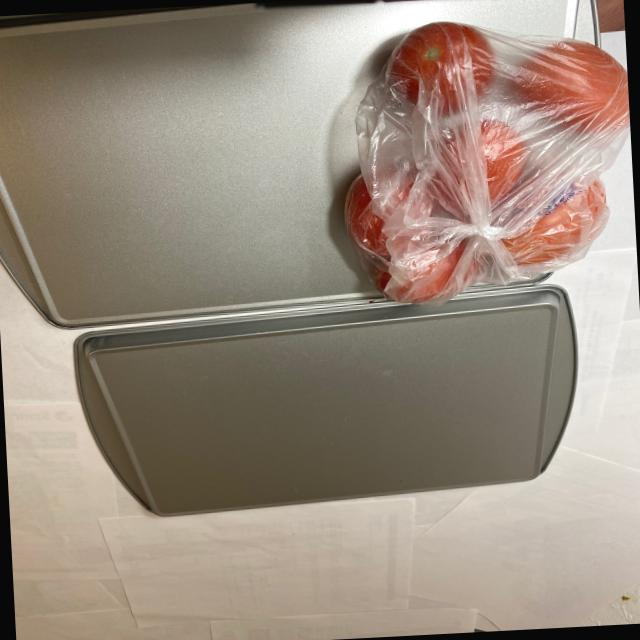tomato: (352, 13, 639, 311)
